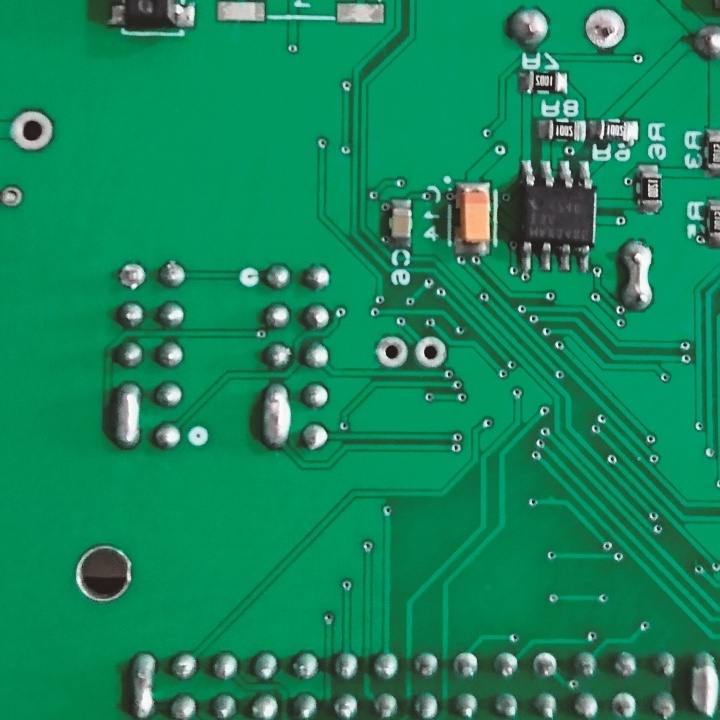F: (7, 106, 60, 155), (582, 3, 630, 57), (412, 331, 452, 375), (373, 331, 410, 371), (450, 644, 482, 683), (531, 647, 561, 683), (118, 259, 148, 294), (607, 689, 639, 720), (1, 182, 27, 213)
P: (616, 233, 658, 317), (123, 646, 160, 720), (258, 378, 293, 455), (685, 646, 720, 720), (110, 376, 144, 452)
